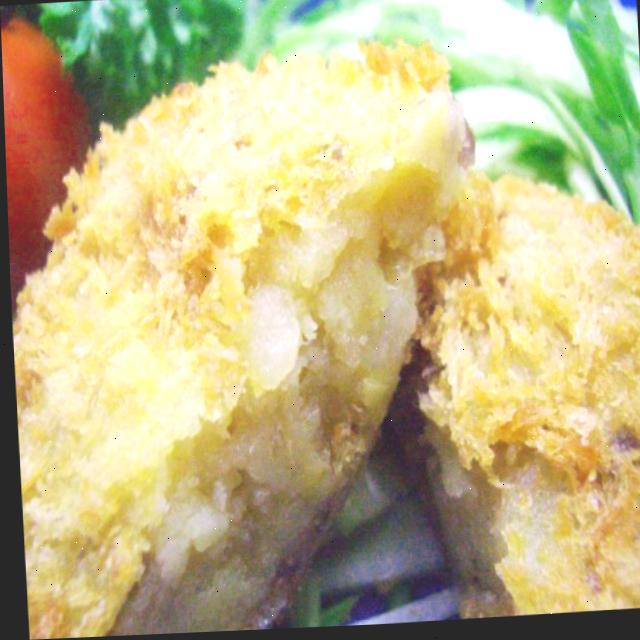炸货点心: (2, 42, 502, 640)
